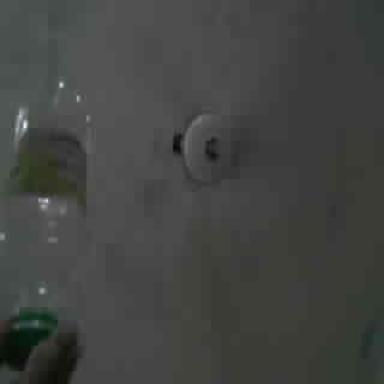bottle: (0, 78, 89, 370)
